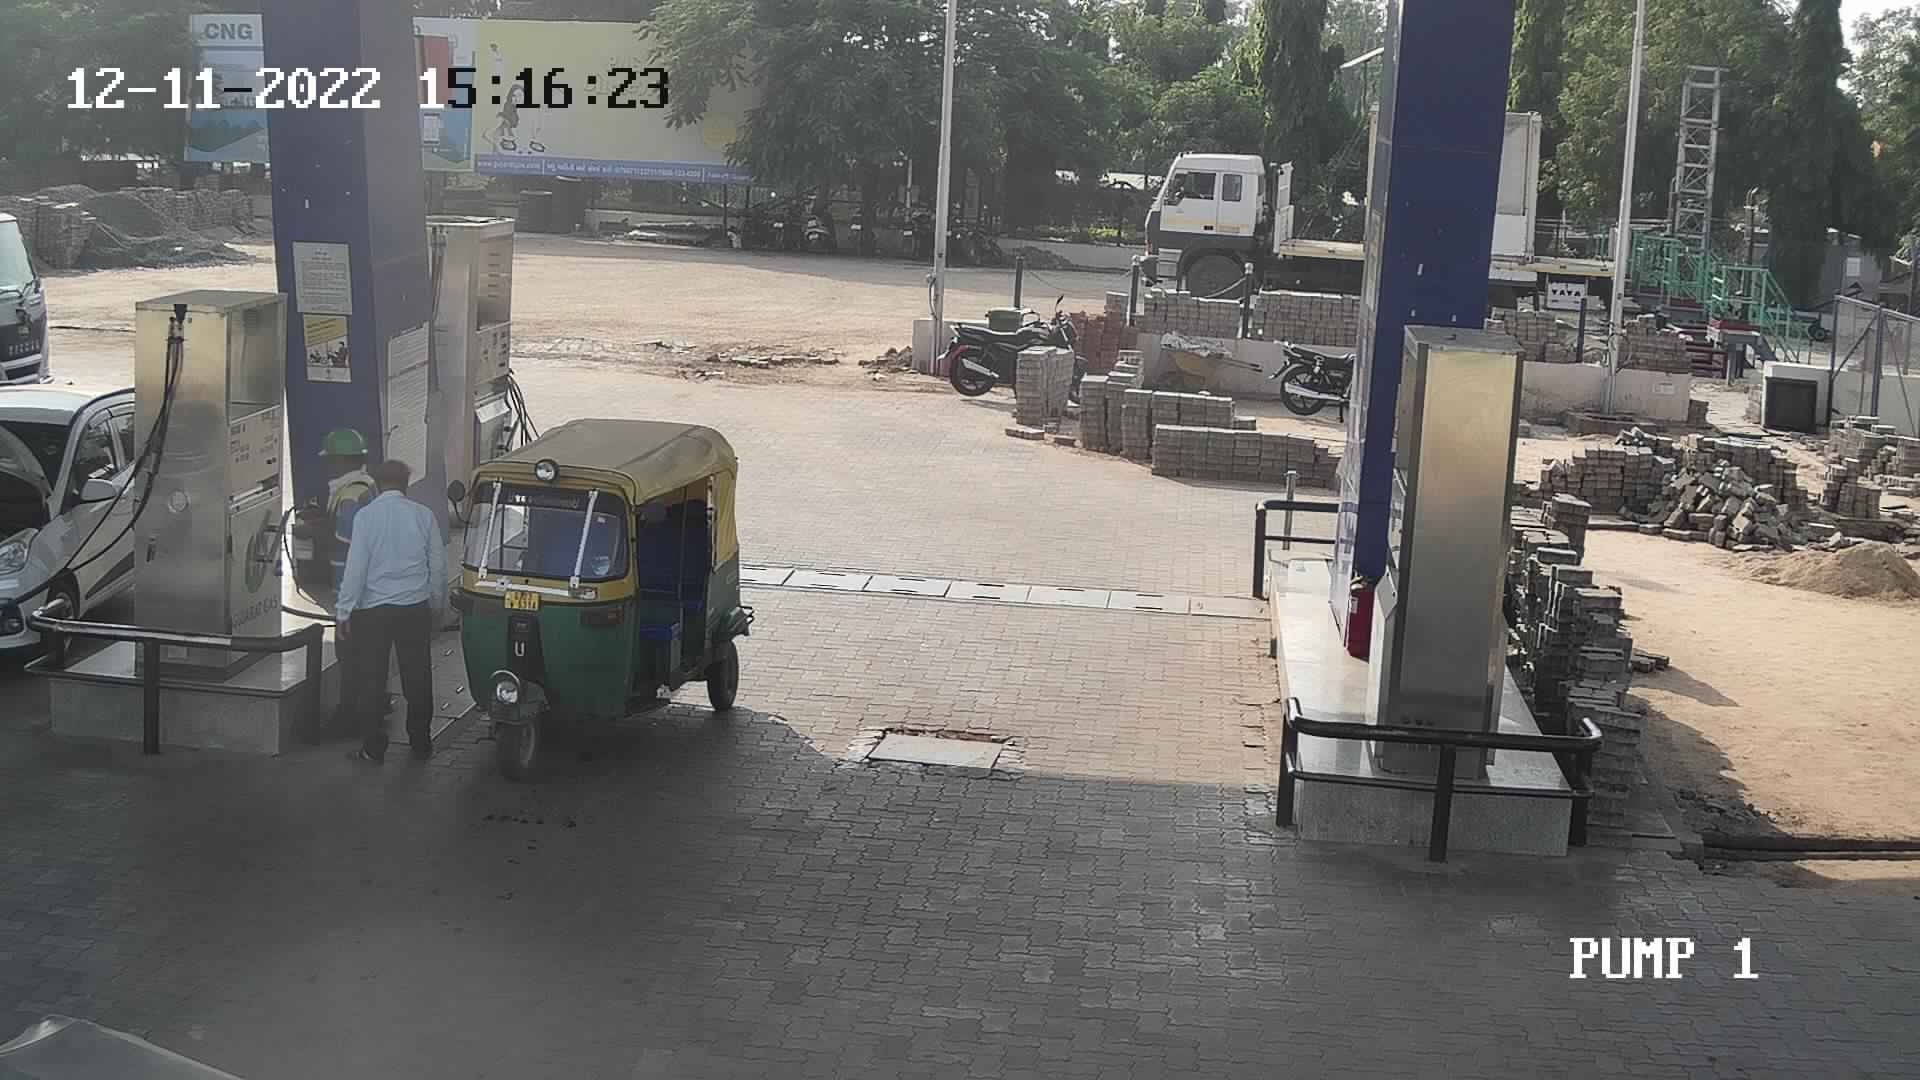Auto: (447, 398, 757, 781), (5, 956, 495, 1080)
Bike: (928, 281, 1106, 426), (1258, 318, 1362, 433), (940, 193, 1011, 278), (731, 179, 785, 253), (889, 191, 938, 264), (837, 185, 881, 262), (795, 185, 841, 257), (767, 187, 810, 257)
Car: (0, 357, 177, 670)
HMV: (1121, 95, 1382, 334), (0, 193, 65, 396)
Others: (309, 417, 381, 752)
